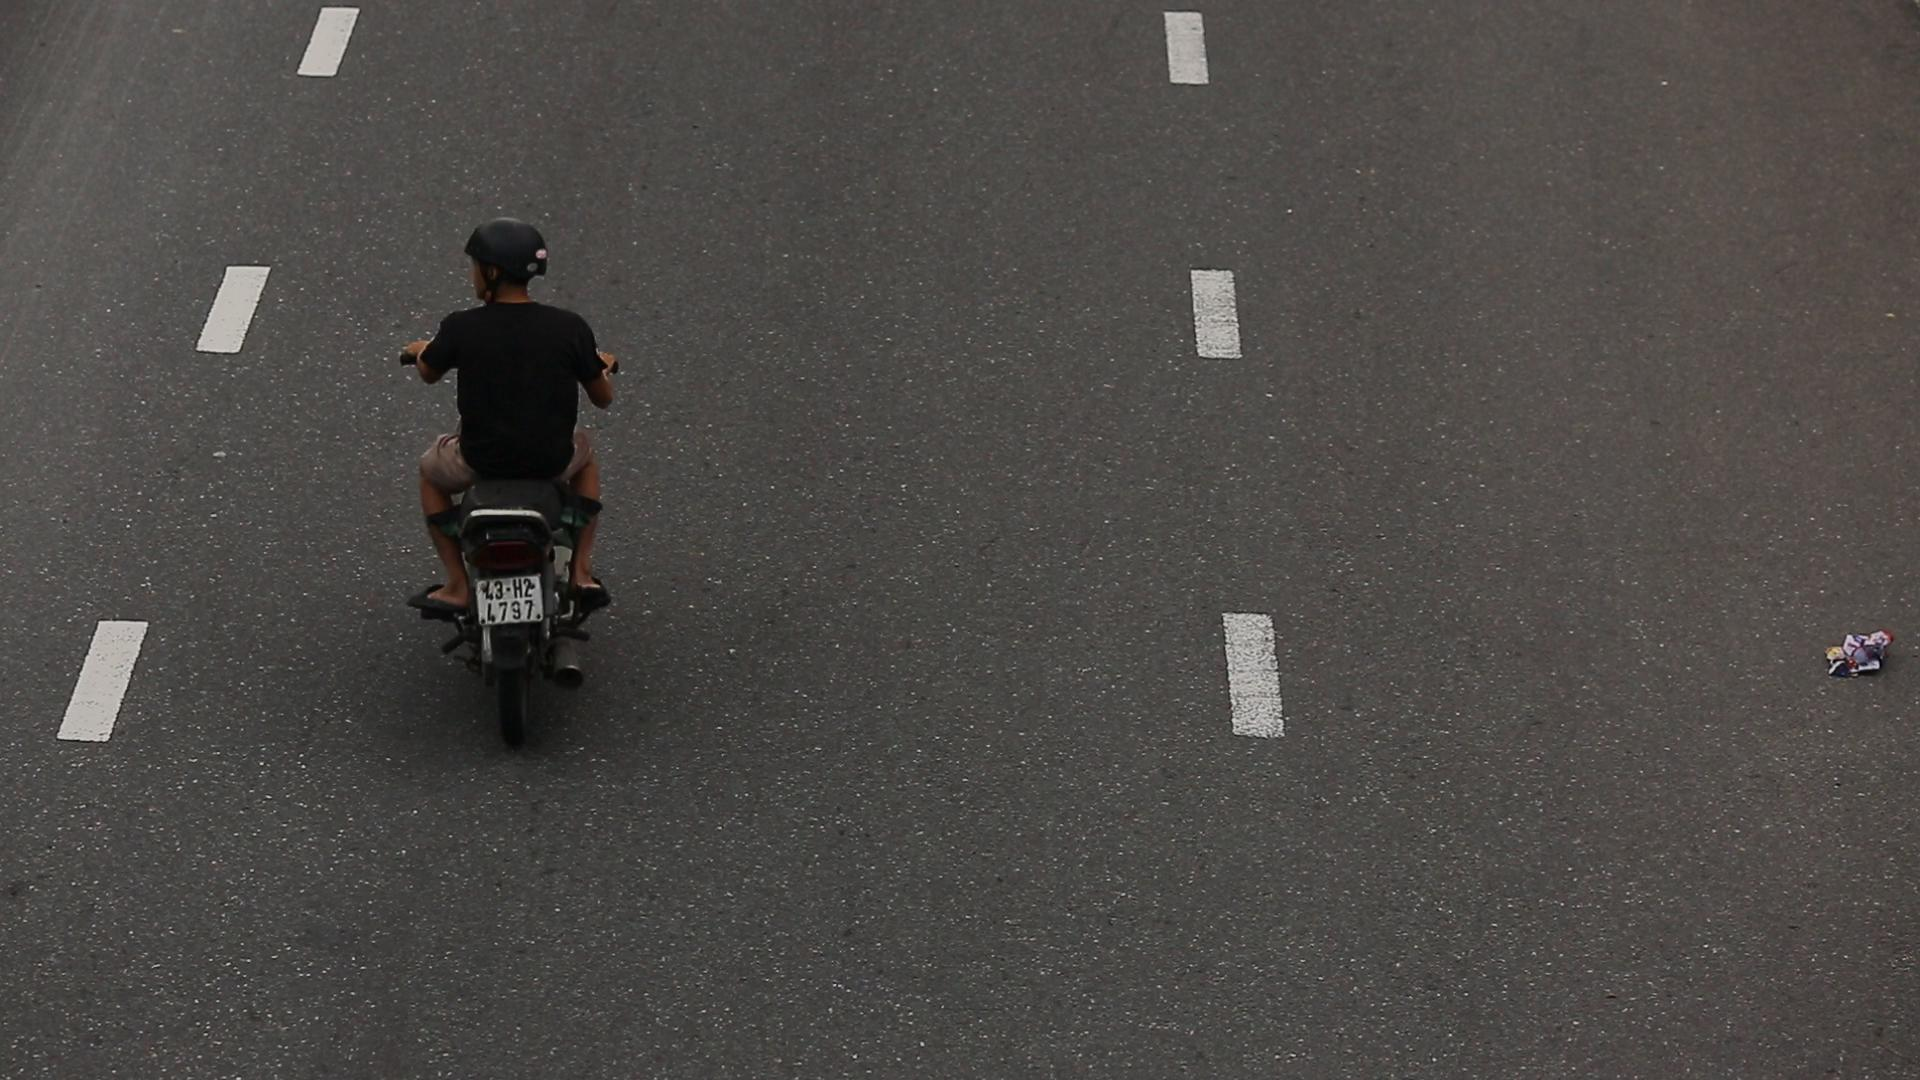motobike: (384, 212, 641, 746)
